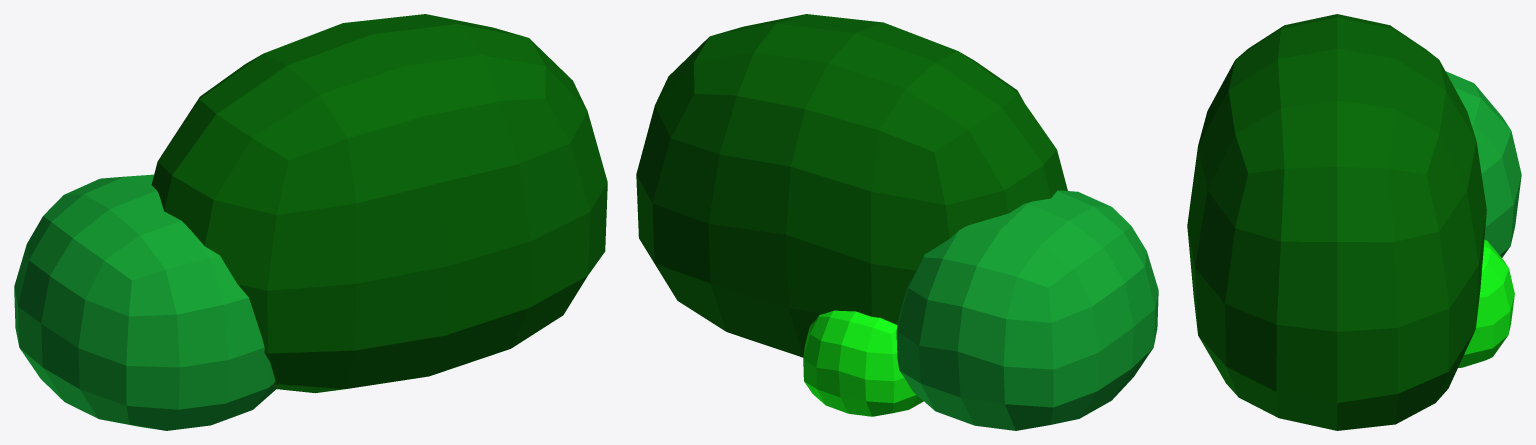
Rendered from GrassOne.glb.
3 views of the same model, side by side, from view 1: azimuth 30°, elevation 25°; view 2: azimuth 150°, elevation 25°; view 3: azimuth 270°, elevation 25° (orthographic). The views are drawn at different scales.
Visible parts, largest first — view 1: GrassOne; view 2: GrassOne; view 3: GrassOne.
Part boxes in pixels (left/top/right/bottom): GrassOne: left=14, top=14, right=607, bottom=430; GrassOne: left=636, top=14, right=1158, bottom=430; GrassOne: left=1187, top=14, right=1521, bottom=430.
Bounding box in the file's own units: 27.71 × 16.89 × 15.05.
